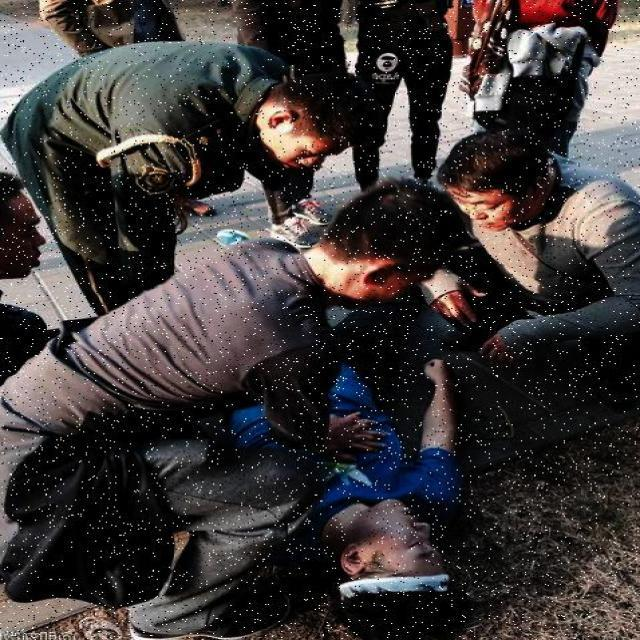fall: (220, 275, 500, 636)
